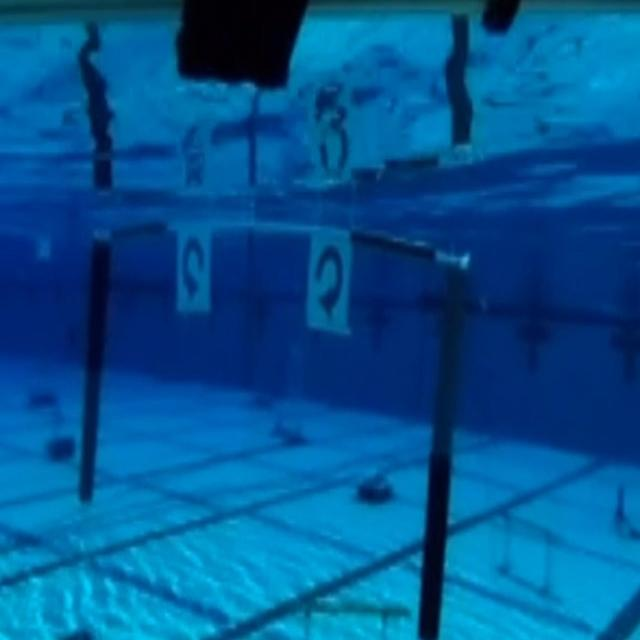Gate: (77, 218, 471, 632)
